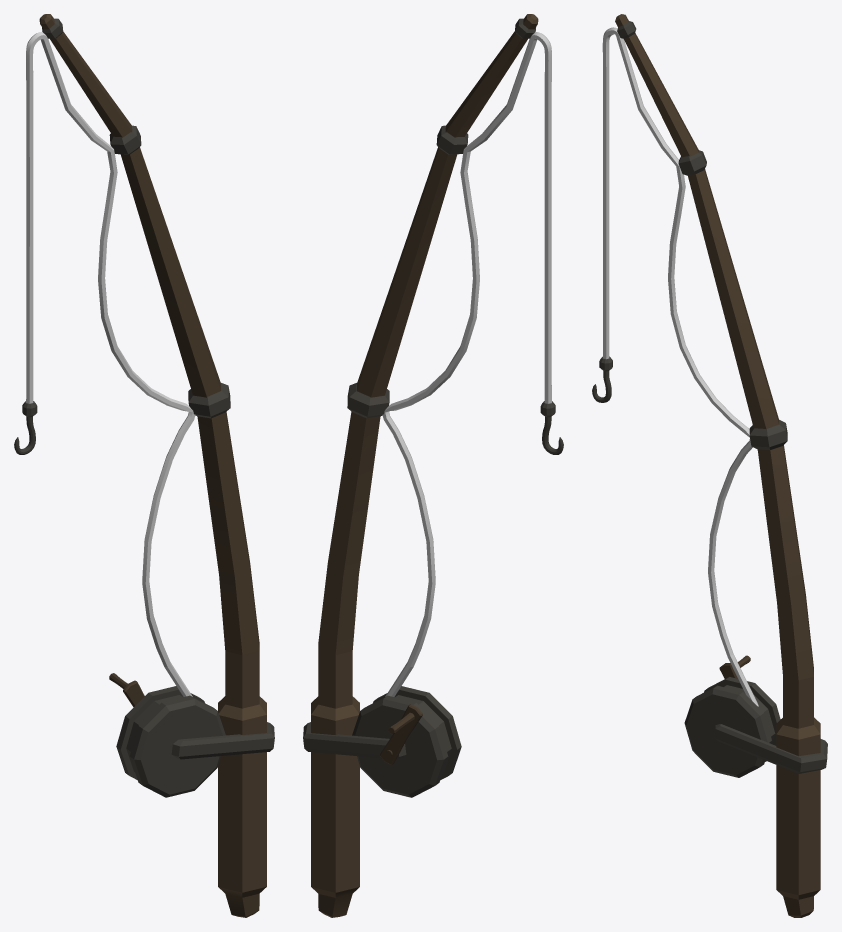
Rendered from fishing_rod.fbx.
3 views of the same model, side by side, from view 1: azimuth 30°, elevation 25°; view 2: azimuth 150°, elevation 25°; view 3: azimuth 330°, elevation 25° (orthographic). The views are drawn at different scales.
Parts seen in each view (by area): view 1: pCylinder63, pCylinder68, pCylinder64, pCube14, pCylinder65, pCylinder66, pCylinder69; view 2: pCylinder63, pCylinder68, pCylinder64, pCube14, pCube15, pCylinder65, pCylinder66, pCylinder69; view 3: pCylinder63, pCylinder68, pCylinder64, pCube14, pCylinder65, pCylinder66.
Boxes of the visible parts, x1,y1,x2,y2 form: pCylinder63: (39, 14, 266, 917); pCylinder68: (26, 32, 195, 696); pCylinder64: (116, 686, 225, 797); pCube14: (171, 722, 274, 759); pCylinder65: (188, 383, 230, 418); pCylinder66: (109, 125, 141, 154); pCylinder69: (14, 401, 37, 454); pCylinder63: (311, 14, 538, 917); pCylinder68: (382, 32, 551, 696); pCylinder64: (352, 686, 461, 797); pCube14: (303, 722, 406, 759); pCube15: (380, 704, 422, 764); pCylinder65: (347, 383, 389, 418); pCylinder66: (436, 125, 468, 154); pCylinder69: (540, 401, 563, 454); pCylinder63: (615, 14, 820, 917); pCylinder68: (602, 27, 758, 706); pCylinder64: (684, 677, 780, 777); pCube14: (714, 724, 827, 773); pCylinder65: (749, 419, 787, 449); pCylinder66: (678, 150, 706, 175).
Bounding box in the file's own units: 6.47 × 22.6 × 2.23.
